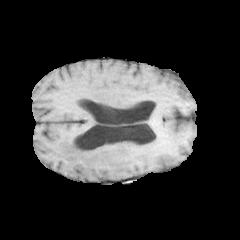glioma: (52, 121, 182, 174)
